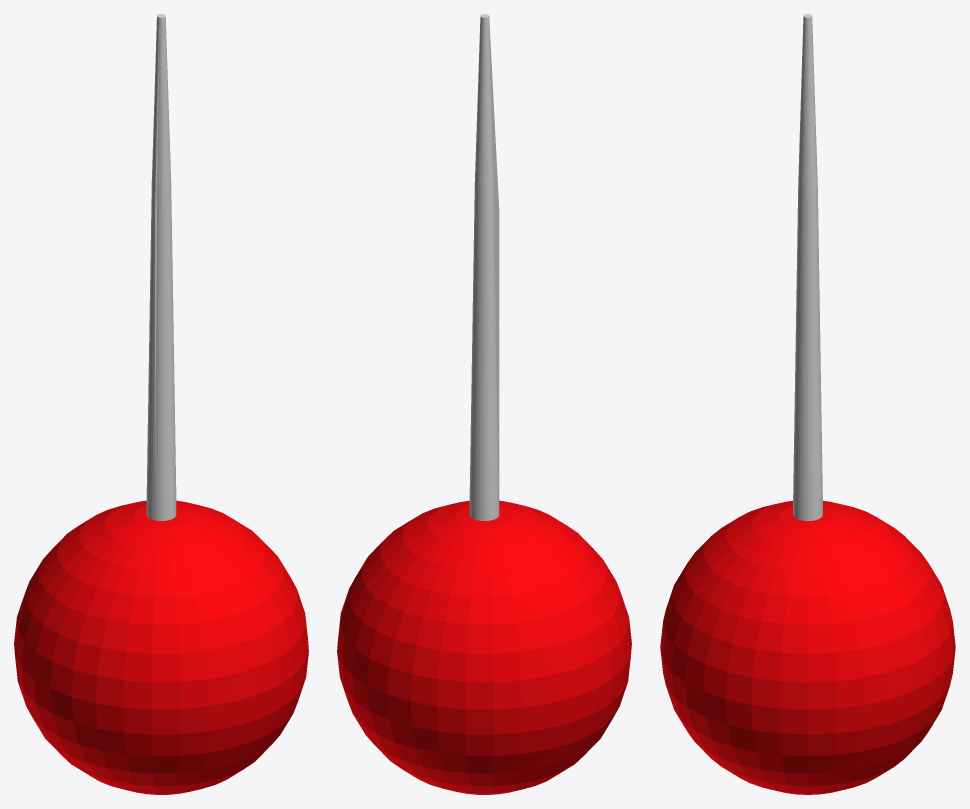
File: Thumbtack.fbx
3 renders of one model, left to right at view 1: azimuth 30°, elevation 25°; view 2: azimuth 150°, elevation 25°; view 3: azimuth 270°, elevation 25°, orthographic.
Visible parts, largest first — view 1: Cylinder; view 2: Cylinder; view 3: Cylinder.
Boxes of the visible parts, x1,y1,x2,y2 form: Cylinder: (14,14,308,794); Cylinder: (337,14,631,794); Cylinder: (660,14,955,794).
Size of the model in its own units: 200 by 572 by 200.
